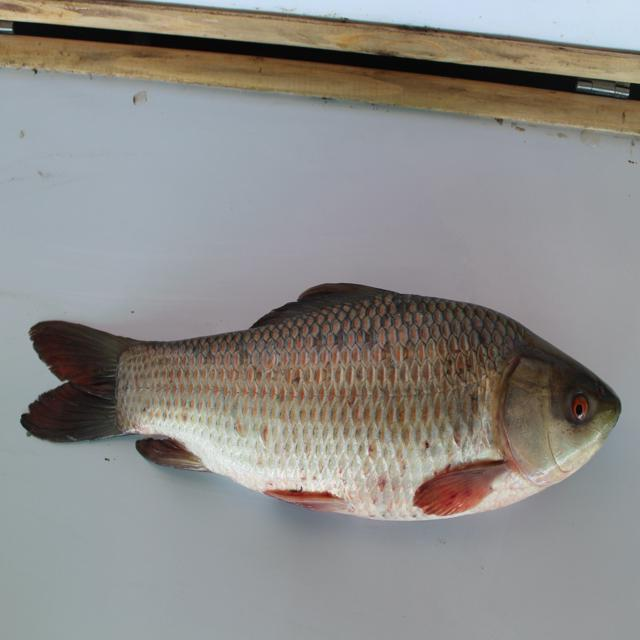Rohu: (15, 274, 622, 513)
